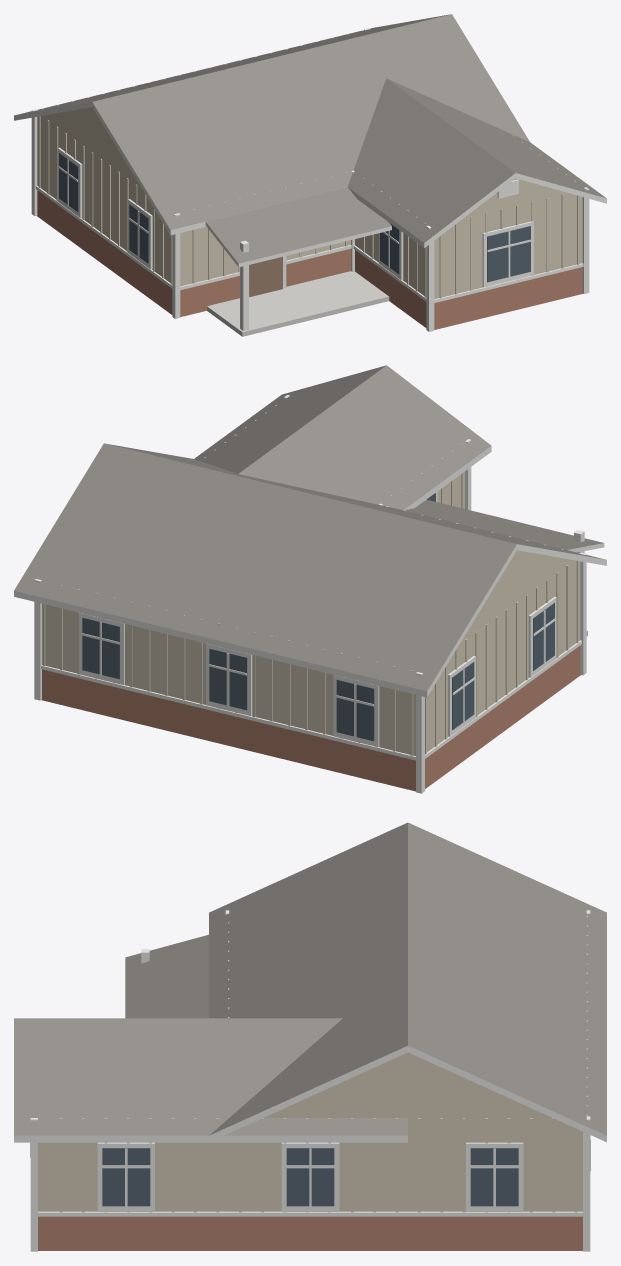
File: oakdale-craftsman.glb
3 renders of one model, top to bottom at view 1: azimuth 30°, elevation 25°; view 2: azimuth 150°, elevation 25°; view 3: azimuth 270°, elevation 25°, orthographic. The views are drawn at different scales.
Parts seen in each view (by area): view 1: The Oakdale (craftsman); view 2: The Oakdale (craftsman); view 3: The Oakdale (craftsman).
Boxes of the visible parts, x1,y1,x2,y2 form: The Oakdale (craftsman): (14, 14, 606, 336); The Oakdale (craftsman): (14, 365, 606, 793); The Oakdale (craftsman): (14, 822, 606, 1251).
Bounding box in the file's own units: 9.9 × 4.43 × 11.12.
